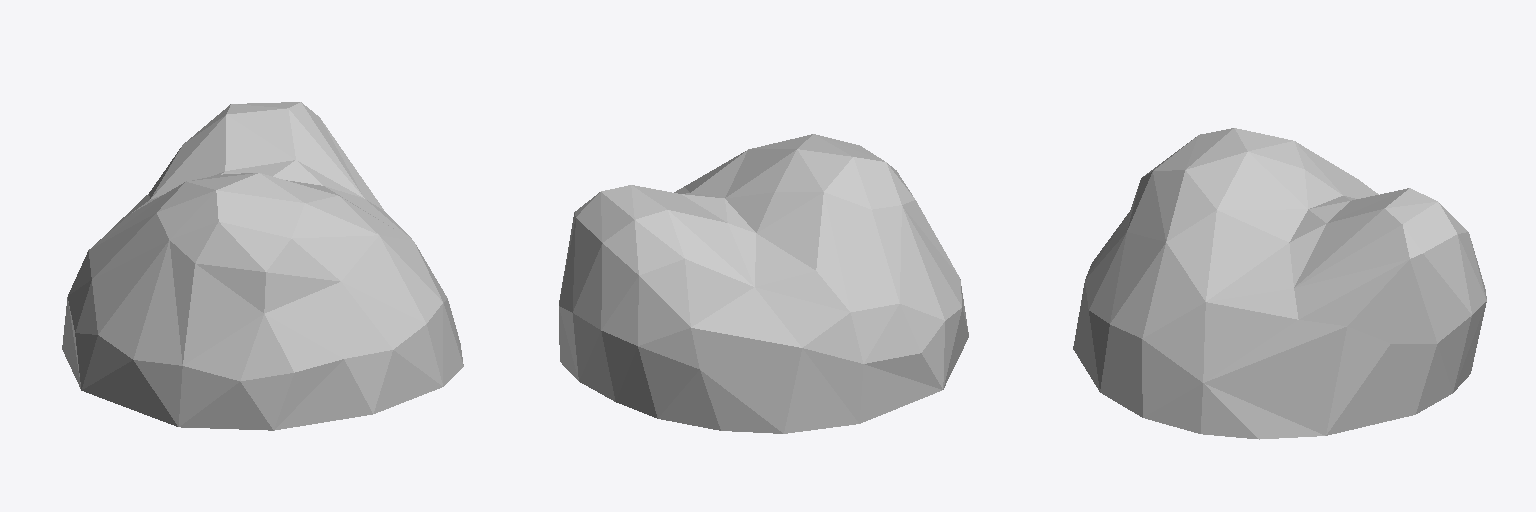
File: stone11.obj
The picture shows the model from 3 angles: view 1: azimuth 30°, elevation 25°; view 2: azimuth 150°, elevation 25°; view 3: azimuth 270°, elevation 25°; orthographic projection.
Visible parts, largest first — view 1: stone1_Group1; view 2: stone1_Group1; view 3: stone1_Group1.
Boxes of the visible parts, x1=… form: stone1_Group1: x1=62, y1=102, x2=463, y2=430; stone1_Group1: x1=559, y1=134, x2=968, y2=433; stone1_Group1: x1=1073, y1=128, x2=1486, y2=439.
Bounding box in the file's own units: 2.2 × 1.18 × 2.26.